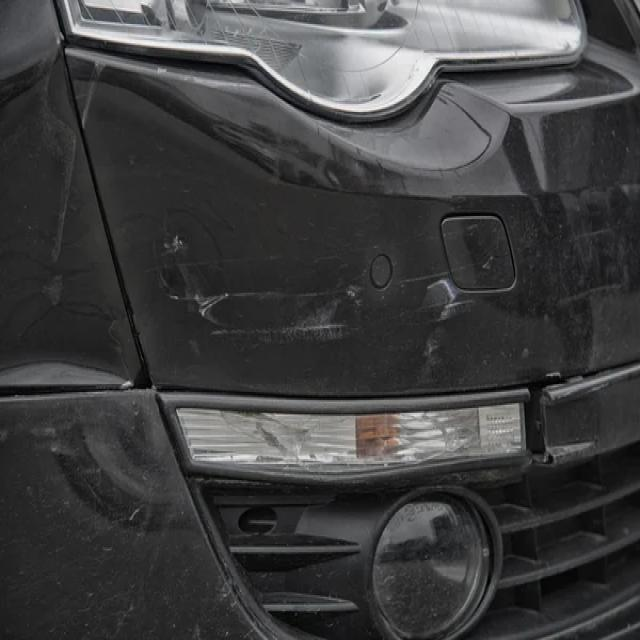scratch: (154, 232, 479, 344), (33, 26, 78, 310), (81, 57, 107, 128)
